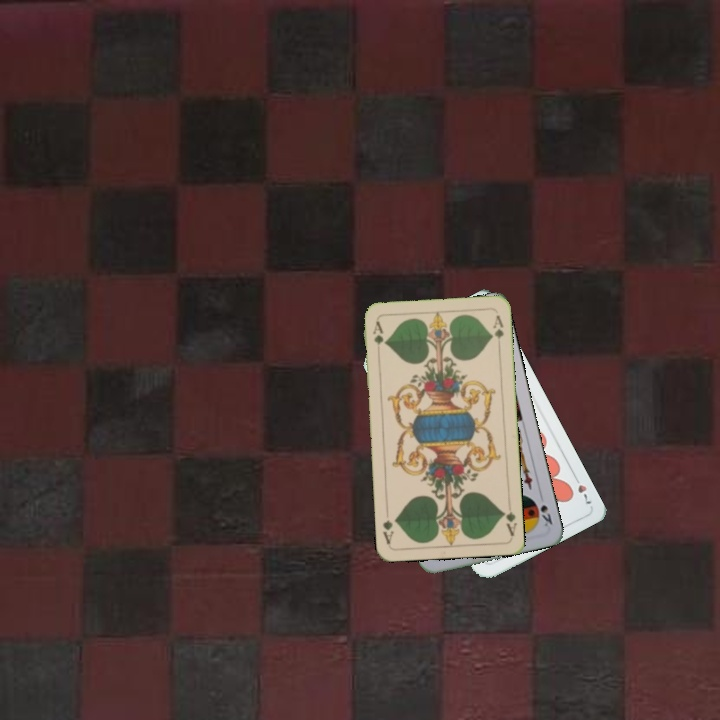GA: (498, 507, 519, 539), (369, 317, 387, 348)
H7: (569, 471, 594, 507)
SK: (536, 490, 555, 529)
